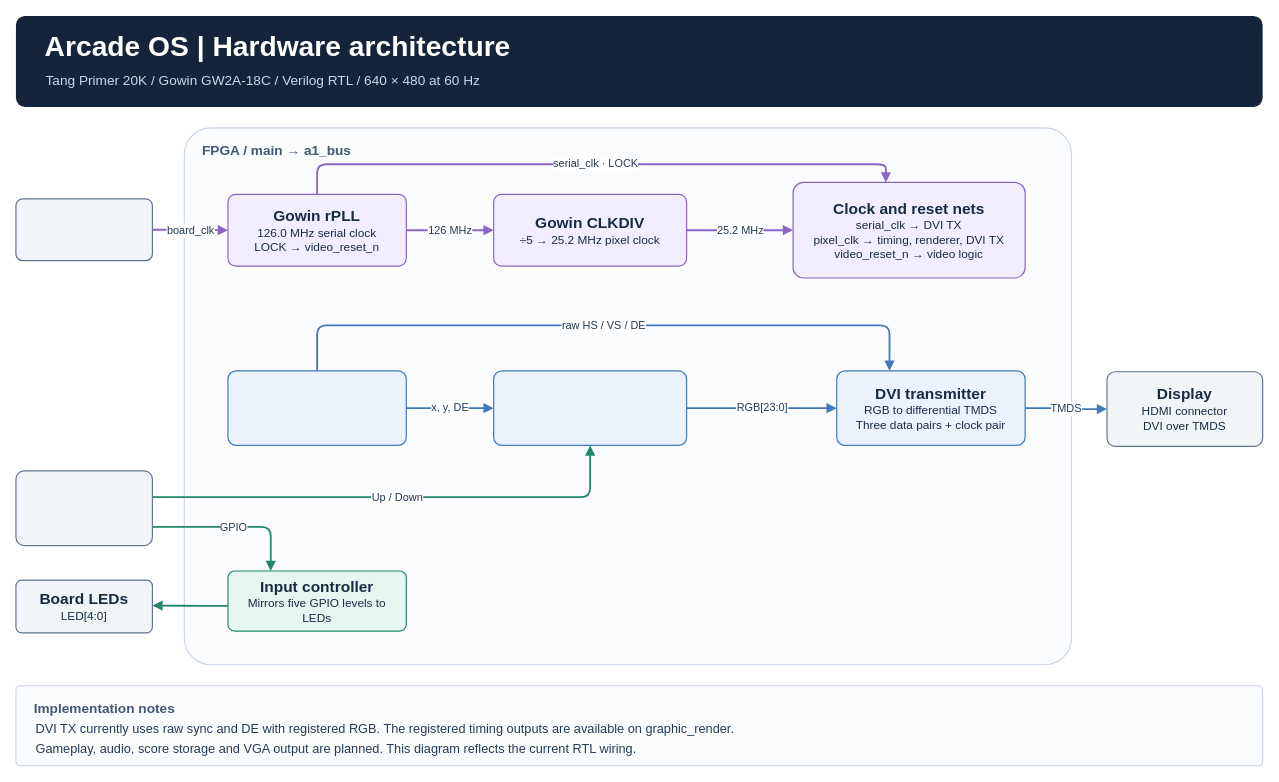
Image size: 1279x782. Some labels were removed from this diagram. Here are the shapes that lost their labels. From the top down, the centre of each, then its label:
At (84,229): "Board oscillator 27 MHz".
At (316,408): "Video timing Raster counters x[9:0], y[9:0], sync, DE".
At (590,408): "Graphics renderer Menu text and selection highlight Registers RGB on pixel_clk".
At (84,508): "GPIO buttons Up · Down · Left Right · Center".
